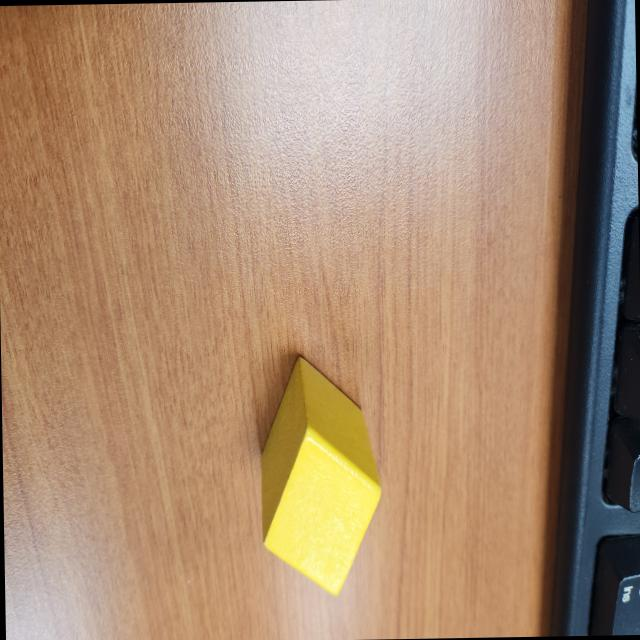yellow: (258, 354, 384, 598)
